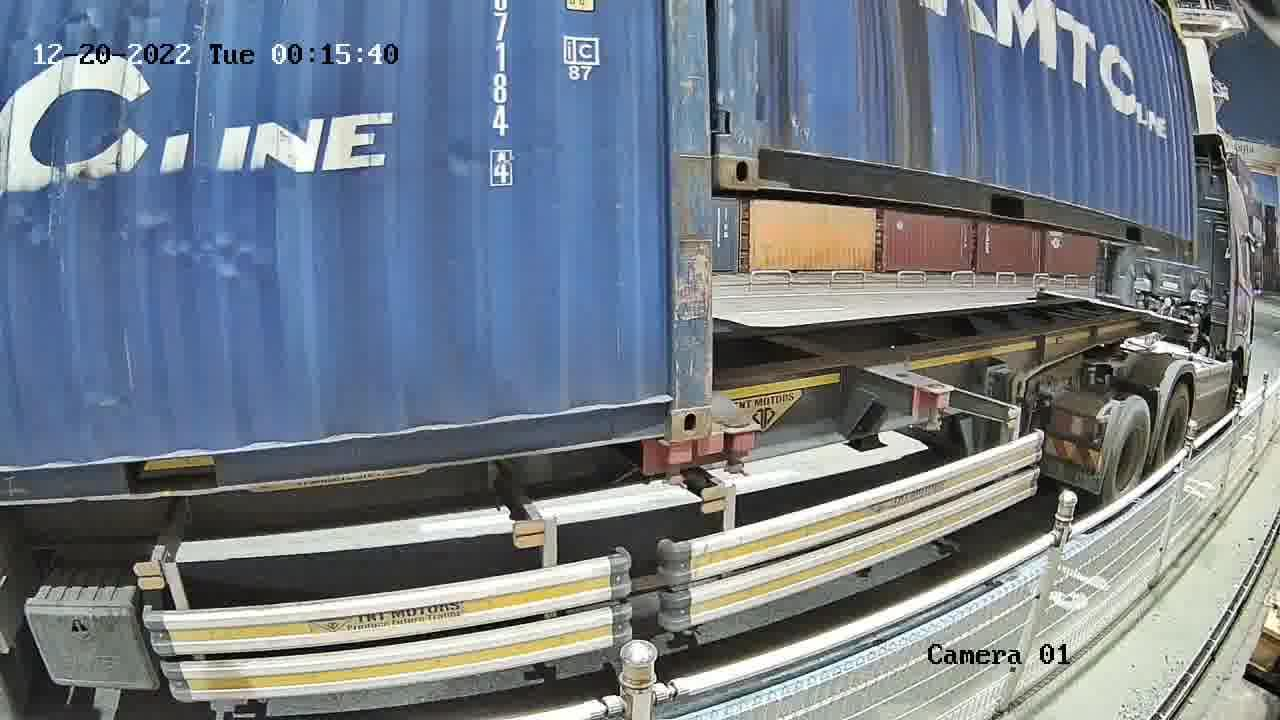Cone: (657, 441, 701, 493), (723, 414, 757, 478)
Hole_L: (715, 111, 796, 193)
Hole_R: (628, 365, 714, 443)
Tire: (1105, 401, 1150, 501), (1159, 384, 1194, 465)
